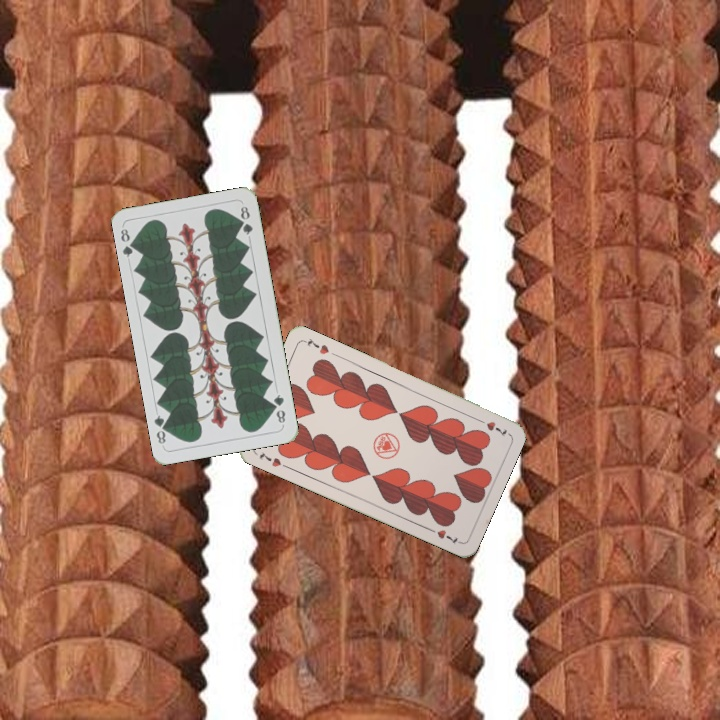G8: (116, 225, 139, 260), (269, 390, 288, 426)
H7: (473, 414, 509, 439), (255, 448, 284, 469)
